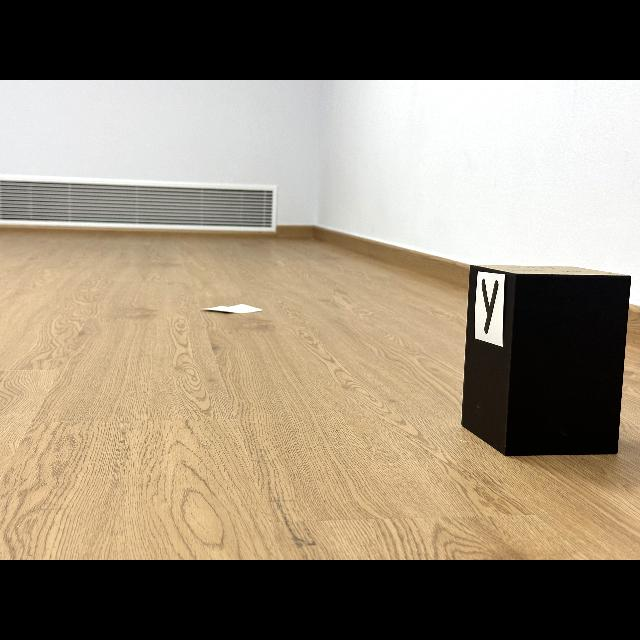Y: (481, 279, 499, 334)
